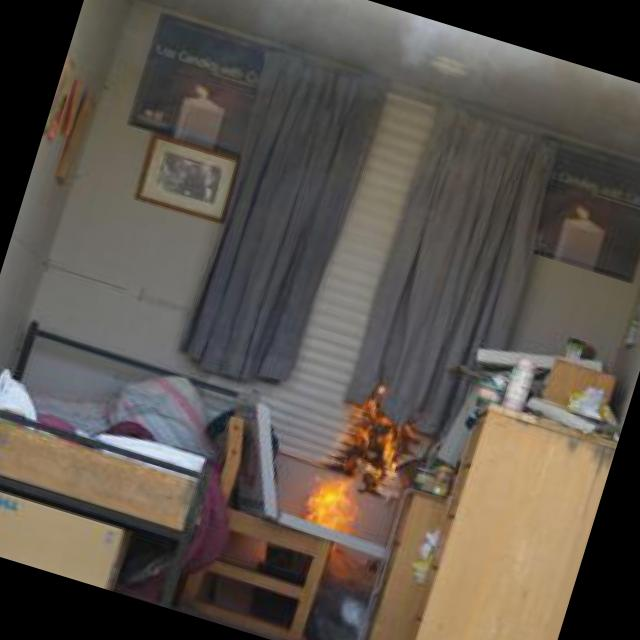fire: (287, 442, 389, 544)
